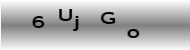6: (31, 15, 46, 28)
G: (99, 10, 117, 25)
U: (58, 7, 73, 22)
j: (71, 14, 80, 31)
o: (126, 27, 140, 39)
